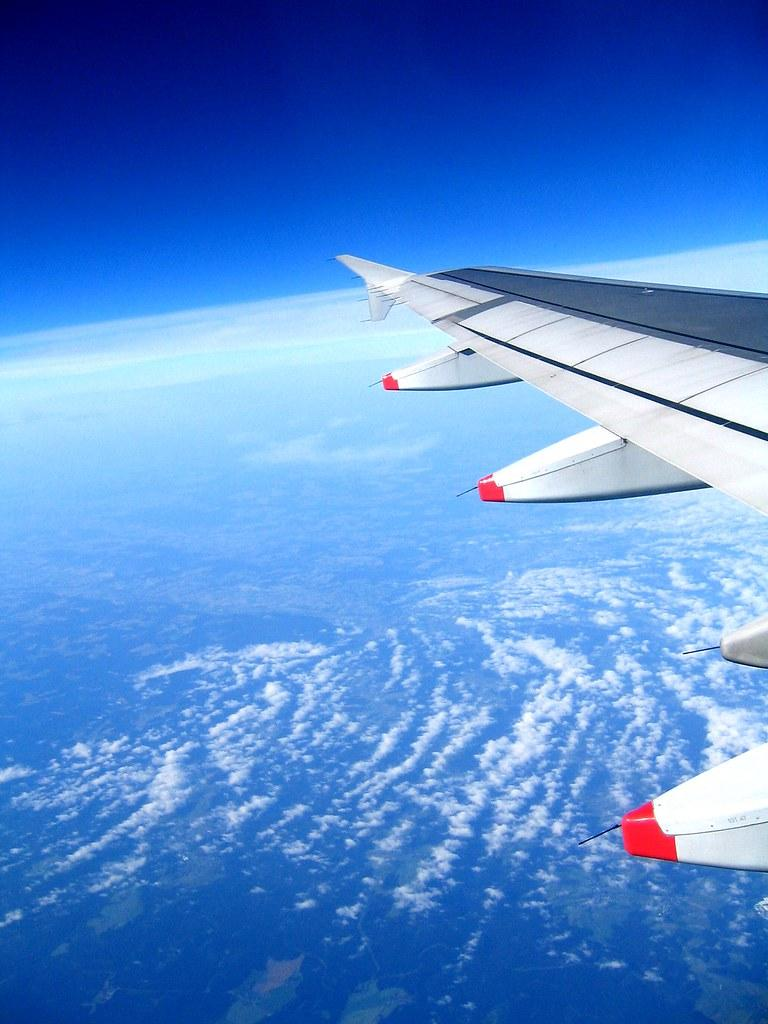plane: (332, 250, 767, 875)
